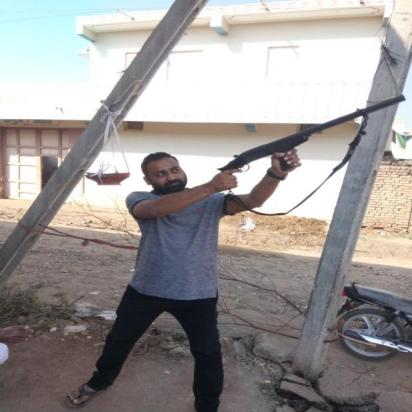Gun: (212, 94, 407, 192)
